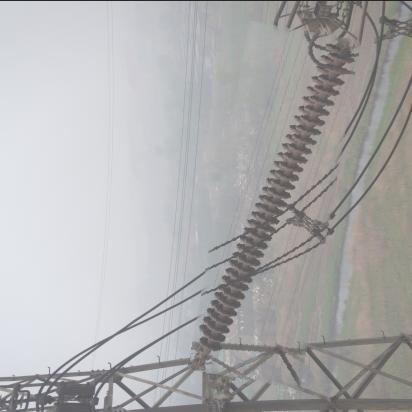insulator: (204, 25, 348, 386)
